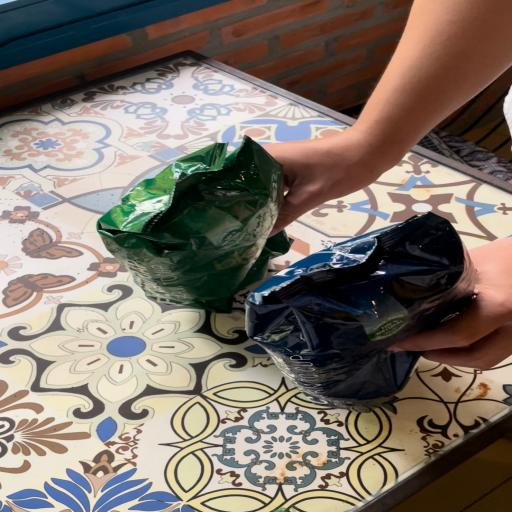cafe_hat: (246, 212, 475, 412)
cafe_xay: (97, 136, 291, 313)
